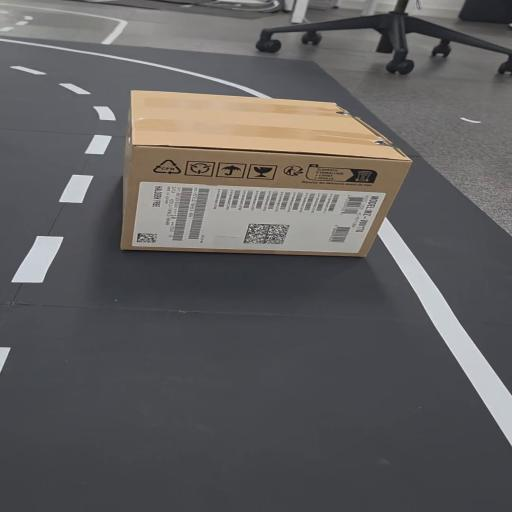Box: (110, 86, 412, 266)
